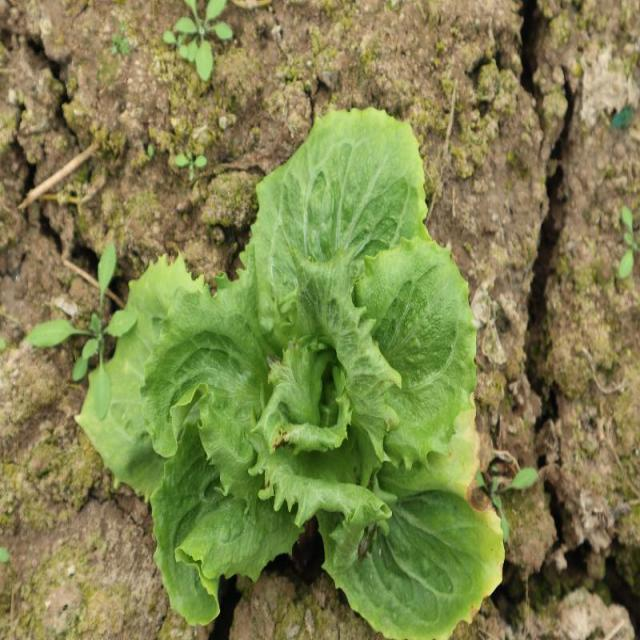crop: (72, 108, 506, 640)
